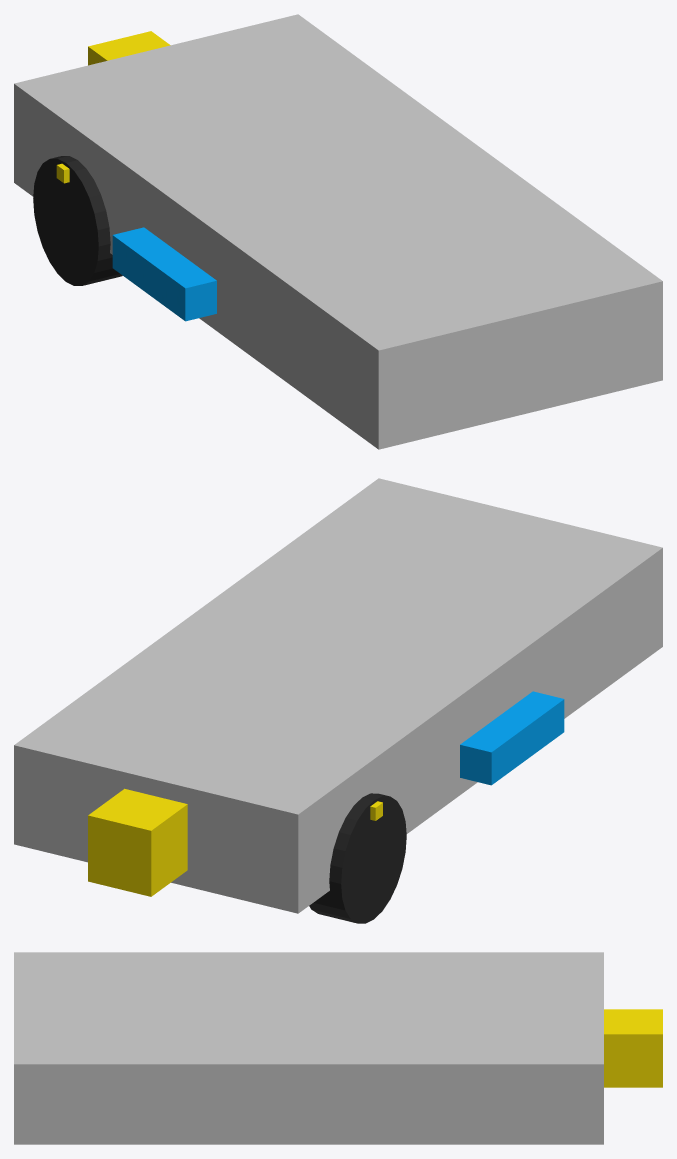
The model's file is FIXTURE_VEHICLE_AXES.glb.
3 renders of one model, top to bottom at view 1: azimuth 30°, elevation 25°; view 2: azimuth 150°, elevation 25°; view 3: azimuth 270°, elevation 25°, orthographic. The views are drawn at different scales.
Parts seen in each view (by area): view 1: VEH_BODY, TIRE_FL, VEH_LEFT_MARK, VEH_NOSE_MARK; view 2: VEH_BODY, VEH_NOSE_MARK, TIRE_FL, VEH_LEFT_MARK; view 3: VEH_BODY, VEH_NOSE_MARK.
Boxes of the visible parts, <box> form: VEH_BODY: <box>14,14,662,449</box>; TIRE_FL: <box>33,156,122,285</box>; VEH_LEFT_MARK: <box>112,227,216,321</box>; VEH_NOSE_MARK: <box>88,31,170,65</box>; VEH_BODY: <box>14,478,662,913</box>; VEH_NOSE_MARK: <box>88,788,187,896</box>; TIRE_FL: <box>309,793,406,923</box>; VEH_LEFT_MARK: <box>460,691,564,785</box>; VEH_BODY: <box>14,952,603,1144</box>; VEH_NOSE_MARK: <box>604,1009,662,1087</box>.
Size of the model in its own units: 2.1 by 0.9 by 4.4.
